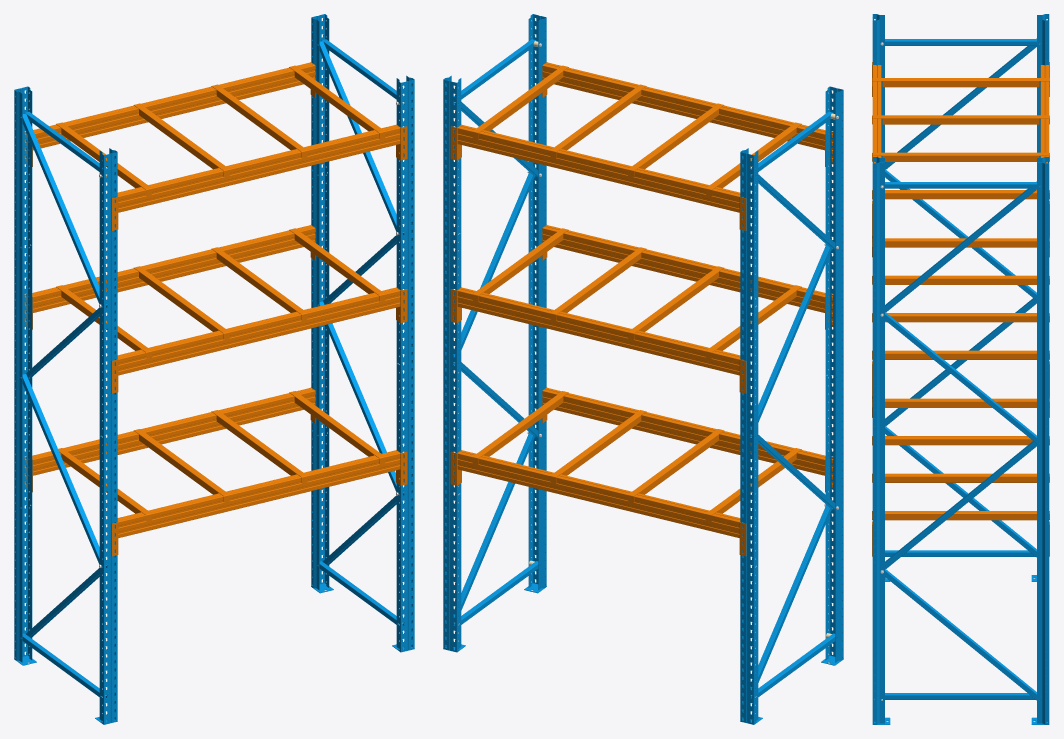
The model's file is 1000-2000-重型货架.glb.
The picture shows the model from 3 angles, left to right: view 1: azimuth 30°, elevation 25°; view 2: azimuth 150°, elevation 25°; view 3: azimuth 270°, elevation 25°; orthographic projection.
Visible parts, largest first — view 1: 1000-2000-横梁-1 (×6), 1000-2000-立柱-1 (×2), 1000-2000-立柱-2 (×2), 1000-2000-40-40方管-1 (×12), 1000-2000-斜拉-1 (×2), 1000-2000-斜拉-3 (×2), 1000-2000-横拉-2 (×2), 1000-2000-斜拉-6 (×2), 1000-2000-横拉-1 (×2), 1000-2000-斜拉-4 (×2); view 2: 1000-2000-横梁-1 (×6), 1000-2000-立柱-2 (×2), 1000-2000-立柱-1 (×2), 1000-2000-40-40方管-1 (×12), 1000-2000-斜拉-6 (×2), 1000-2000-斜拉-4 (×2), 1000-2000-横拉-2 (×2), 1000-2000-斜拉-3 (×2), 1000-2000-横拉-1 (×2), 1000-2000-斜拉-1; view 3: 1000-2000-40-40方管-1 (×12), 1000-2000-立柱-2 (×2), 1000-2000-立柱-1 (×2), 1000-2000-斜拉-6 (×2), 1000-2000-斜拉-1 (×2), 1000-2000-斜拉-4 (×2), 1000-2000-斜拉-3 (×2), 1000-2000-横拉-1 (×2), 1000-2000-横拉-2 (×2), 1000-2000-横梁-1 (×2).
Part boxes in pixels (<box>): 1000-2000-横梁-1 (×6): <box>32,62,400,537</box>; 1000-2000-立柱-1 (×2): <box>95,75,414,724</box>; 1000-2000-立柱-2 (×2): <box>14,14,333,665</box>; 1000-2000-40-40方管-1 (×12): <box>61,69,379,513</box>; 1000-2000-斜拉-1 (×2): <box>21,41,404,306</box>; 1000-2000-斜拉-3 (×2): <box>21,301,403,566</box>; 1000-2000-横拉-2 (×2): <box>22,561,404,697</box>; 1000-2000-斜拉-6 (×2): <box>26,493,404,637</box>; 1000-2000-横拉-1 (×2): <box>24,39,403,171</box>; 1000-2000-斜拉-4 (×2): <box>26,233,404,378</box>; 1000-2000-横梁-1 (×6): <box>457,62,825,537</box>; 1000-2000-立柱-2 (×2): <box>443,75,762,724</box>; 1000-2000-立柱-1 (×2): <box>524,14,843,665</box>; 1000-2000-40-40方管-1 (×12): <box>478,69,796,513</box>; 1000-2000-斜拉-6 (×2): <box>453,432,831,695</box>; 1000-2000-斜拉-4 (×2): <box>453,172,831,435</box>; 1000-2000-横拉-2 (×2): <box>453,561,835,697</box>; 1000-2000-斜拉-3 (×2): <box>453,362,835,510</box>; 1000-2000-横拉-1 (×2): <box>453,39,833,174</box>; 1000-2000-斜拉-1: <box>750,174,835,249</box>; 1000-2000-40-40方管-1 (×12): <box>882,78,1039,520</box>; 1000-2000-立柱-2 (×2): <box>1031,14,1049,724</box>; 1000-2000-立柱-1 (×2): <box>872,14,890,724</box>; 1000-2000-斜拉-6 (×2): <box>885,426,1039,700</box>; 1000-2000-斜拉-1 (×2): <box>885,38,1036,312</box>; 1000-2000-斜拉-4 (×2): <box>885,169,1039,443</box>; 1000-2000-斜拉-3 (×2): <box>885,298,1040,568</box>; 1000-2000-横拉-1 (×2): <box>885,39,1040,188</box>; 1000-2000-横拉-2 (×2): <box>885,550,1040,699</box>; 1000-2000-横梁-1 (×2): <box>872,65,1049,163</box>.
Bounding box in the file's own units: 2 × 3.5 × 1.01.
